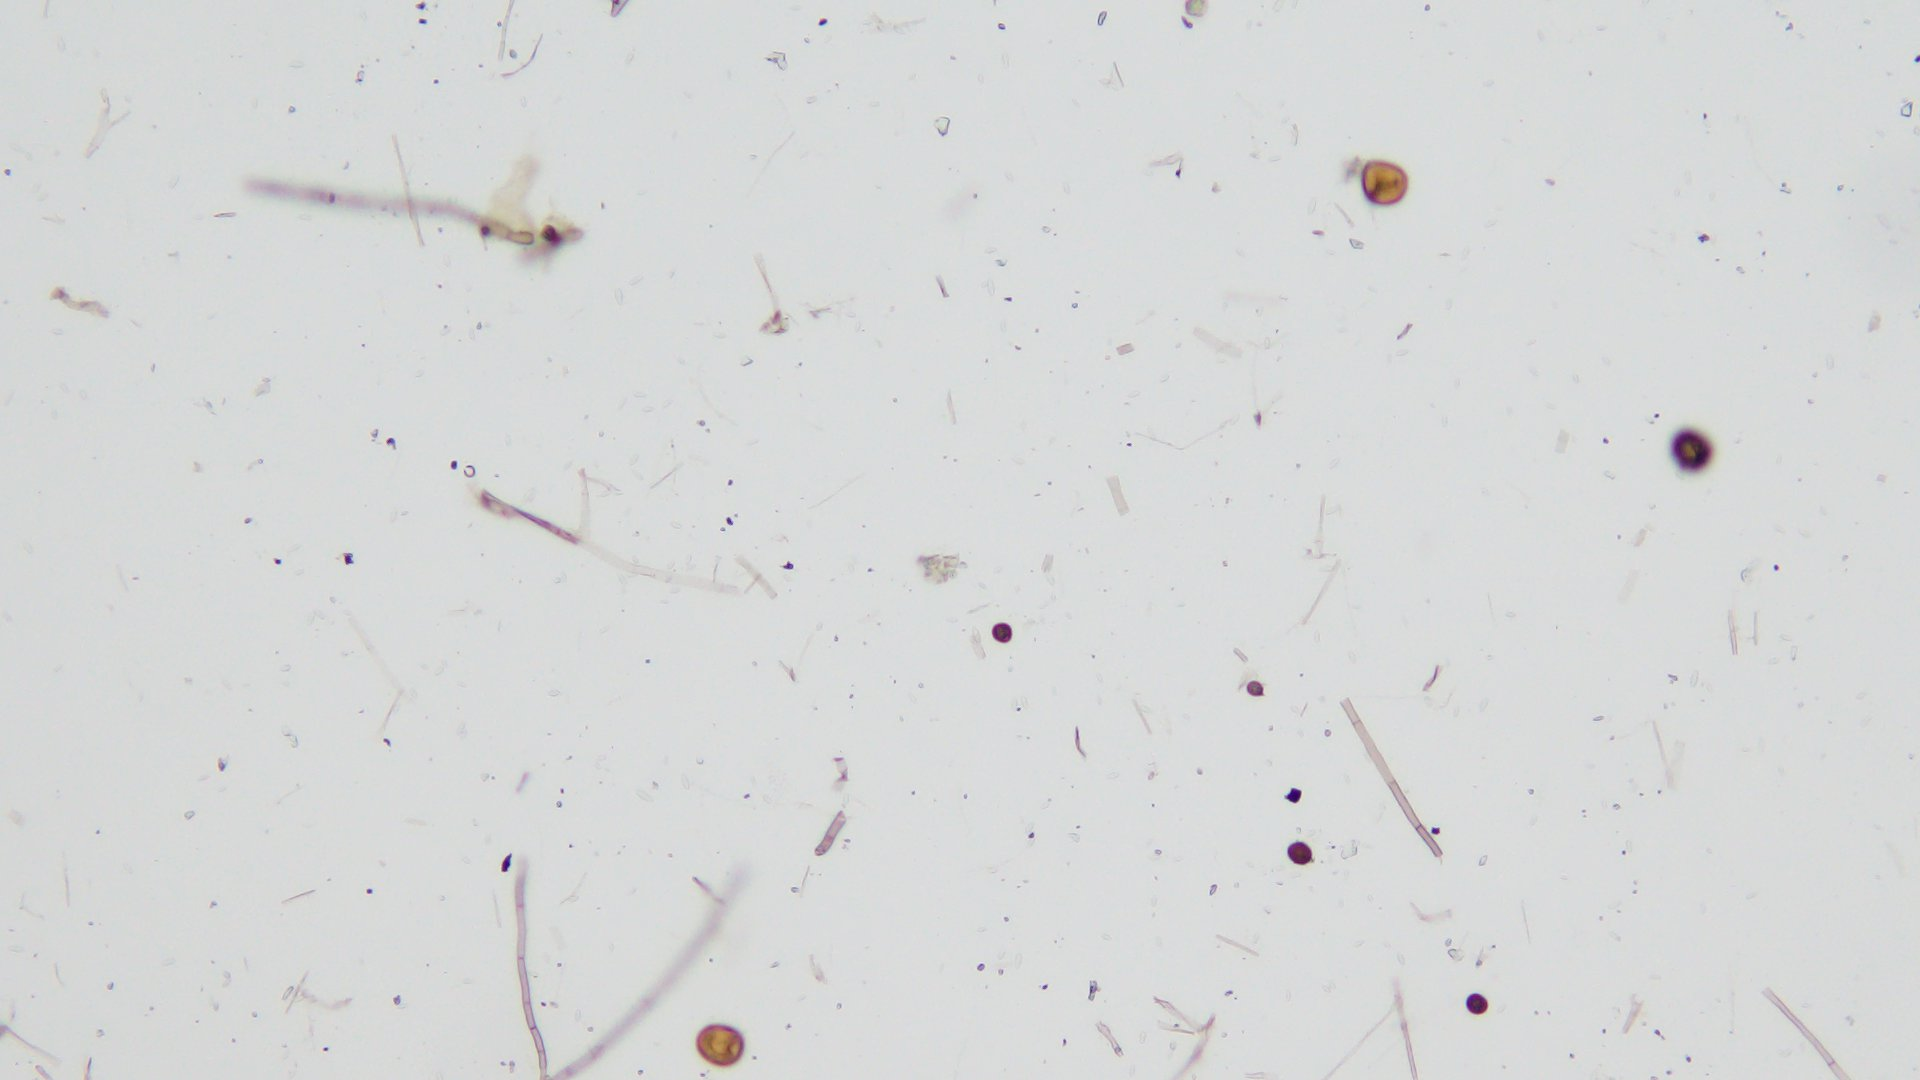shs_spore: (1288, 843, 1312, 866), (1464, 993, 1491, 1013), (993, 622, 1011, 645)
xb_spore: (1360, 160, 1408, 206), (692, 1025, 746, 1063)
